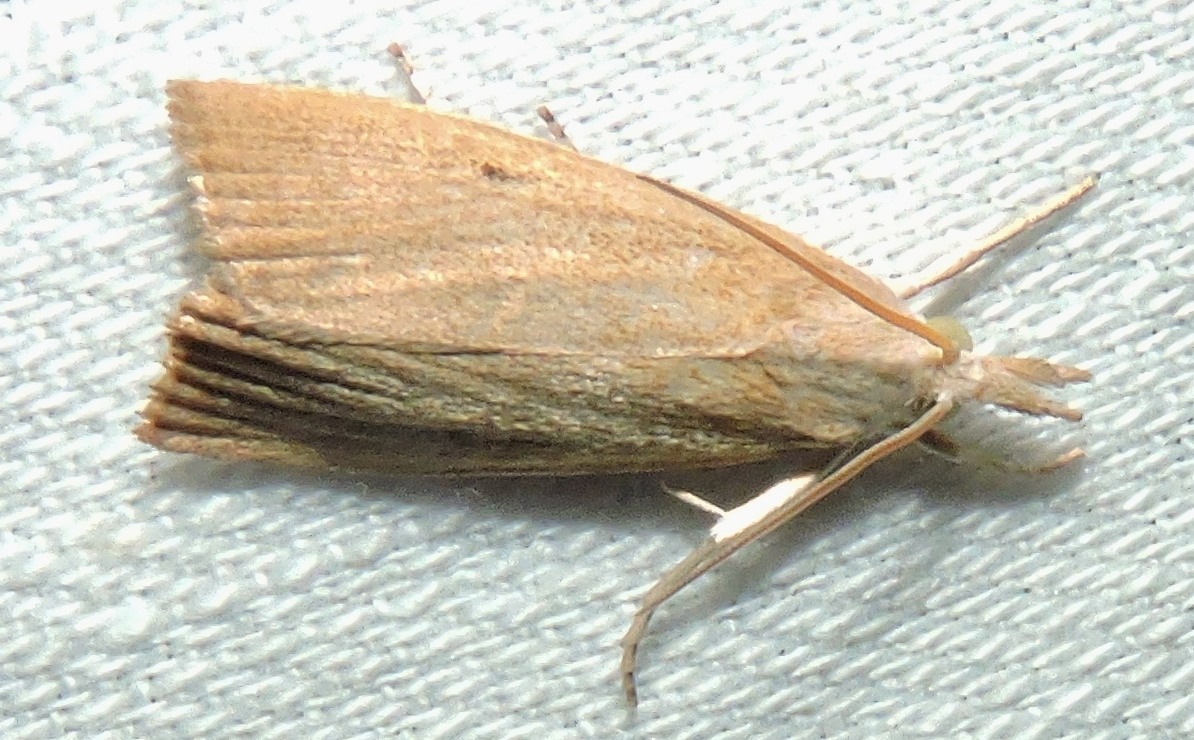Crambidae: (137, 48, 1120, 711)
